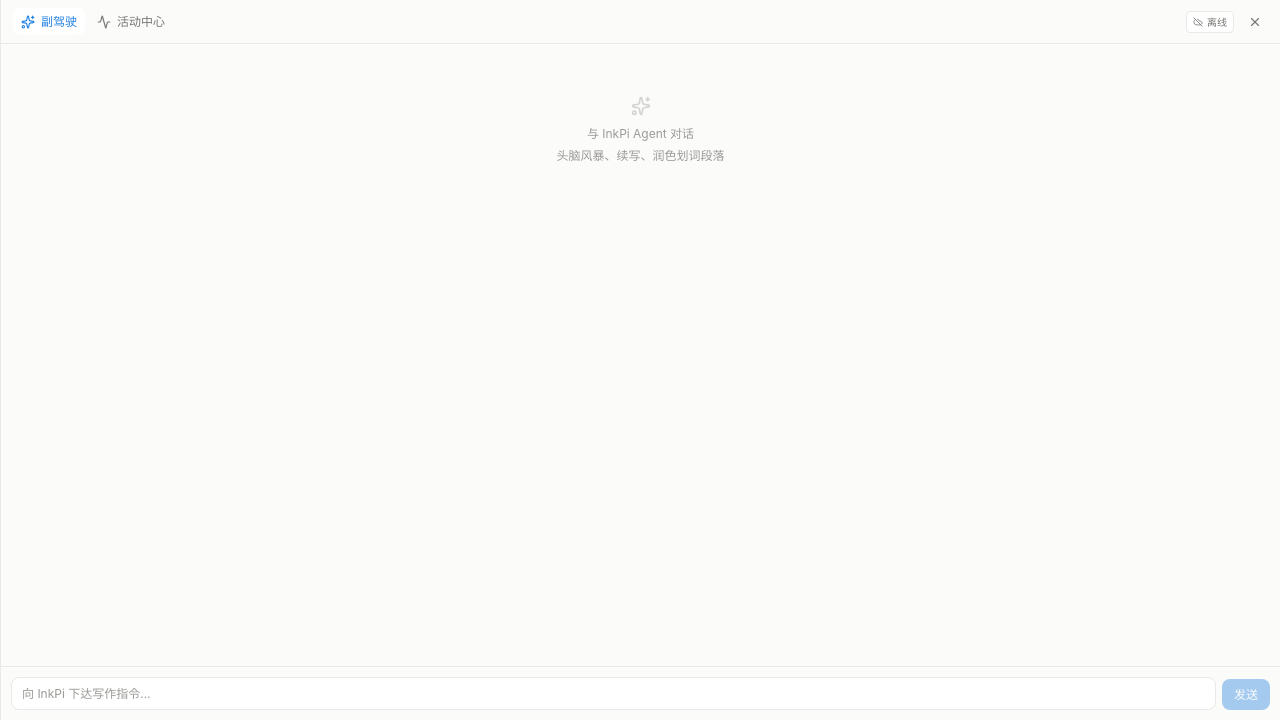
it: AiAssistantPanel Component › should switch to activity center when activity tab is clicked
Click the button "活动中心" at (131, 22), box [89,8,173,35]
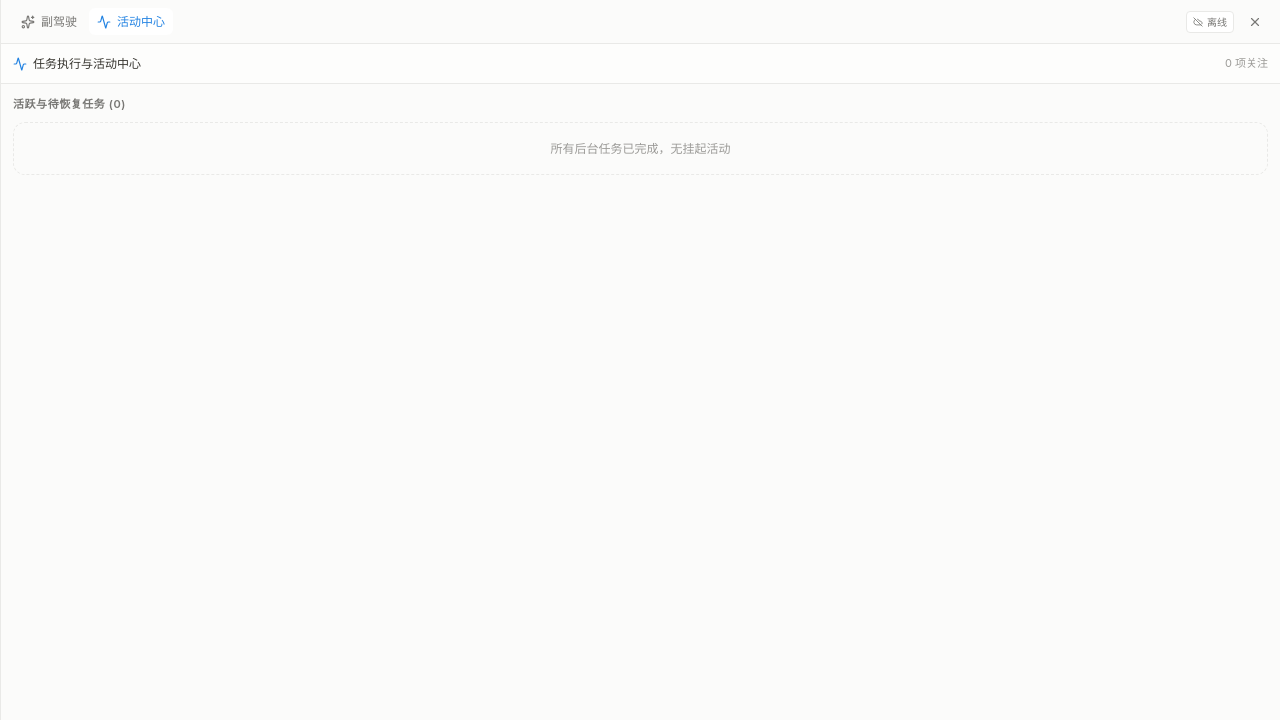
expect the element with test id "ai-activity-center" is shown: met
expect the text "所有后台任务已完成，无挂起活动" is shown: met, box [13,122,1268,175]
